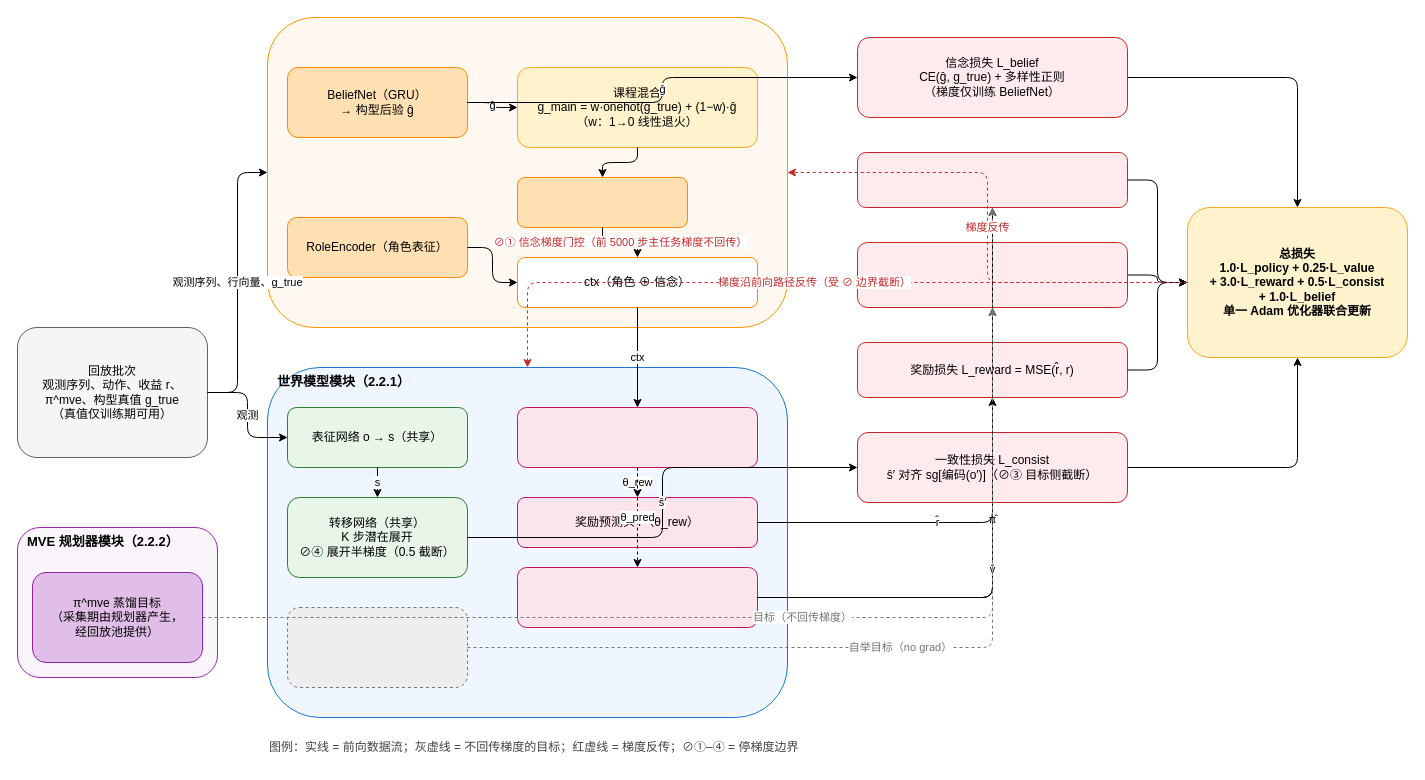
Image size: 1425x780. Some labels were removed from this diagram. The box of each missing label's shape, as (x1, y1, x2, y2) in pixels:
BeliefEncoder: (516, 176, 688, 228)
DualHyperNetwork → θ_rew、θ_pred: (516, 406, 758, 468)
EMA 目标网络 提供价值自举目标 ⊘② 不回传梯度: (286, 606, 468, 688)
价值损失 L_value 目标：n 步回报 + EMA 自举（⊘②）: (856, 242, 1128, 308)
策略—价值头 π̂、v̂（θ_pred）: (516, 566, 758, 628)
策略蒸馏损失 L_policy = CE(π̂, π^mve): (856, 152, 1128, 208)
角色感知模块（2.2.1）: (266, 16, 788, 328)
